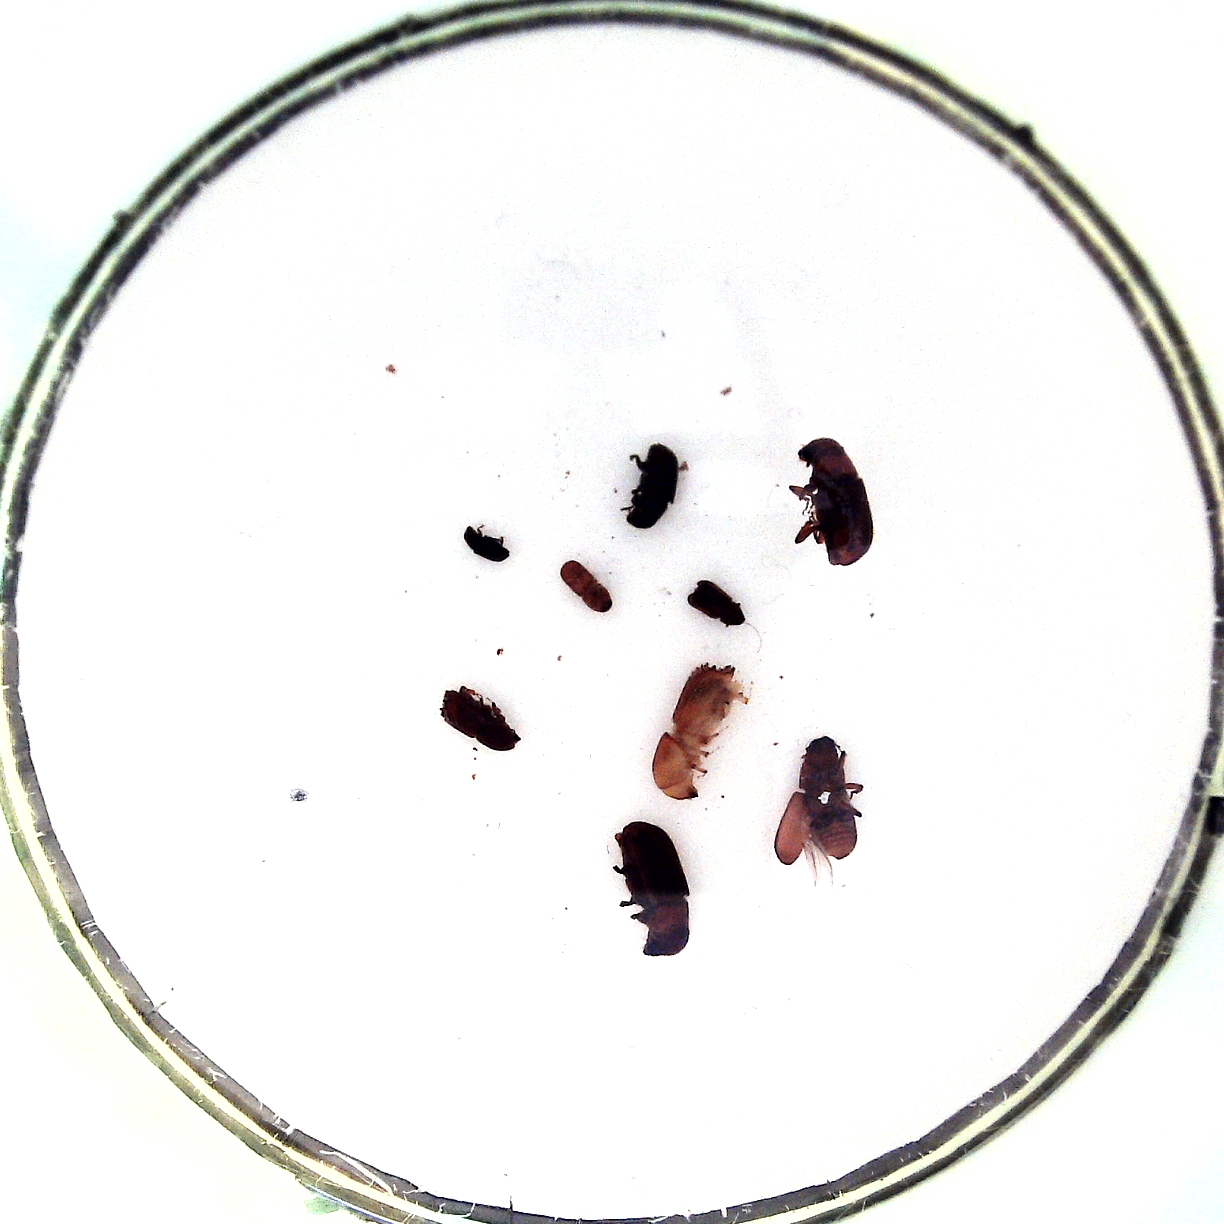Boerner: (653, 664, 736, 800)
Leconte: (614, 820, 690, 957), (798, 437, 873, 566), (799, 736, 857, 860)
acuminatus: (463, 527, 511, 563)
armandi: (625, 443, 678, 529)
coleoptera: (559, 560, 613, 613), (687, 579, 745, 625)
linnaeus: (439, 690, 521, 752)
